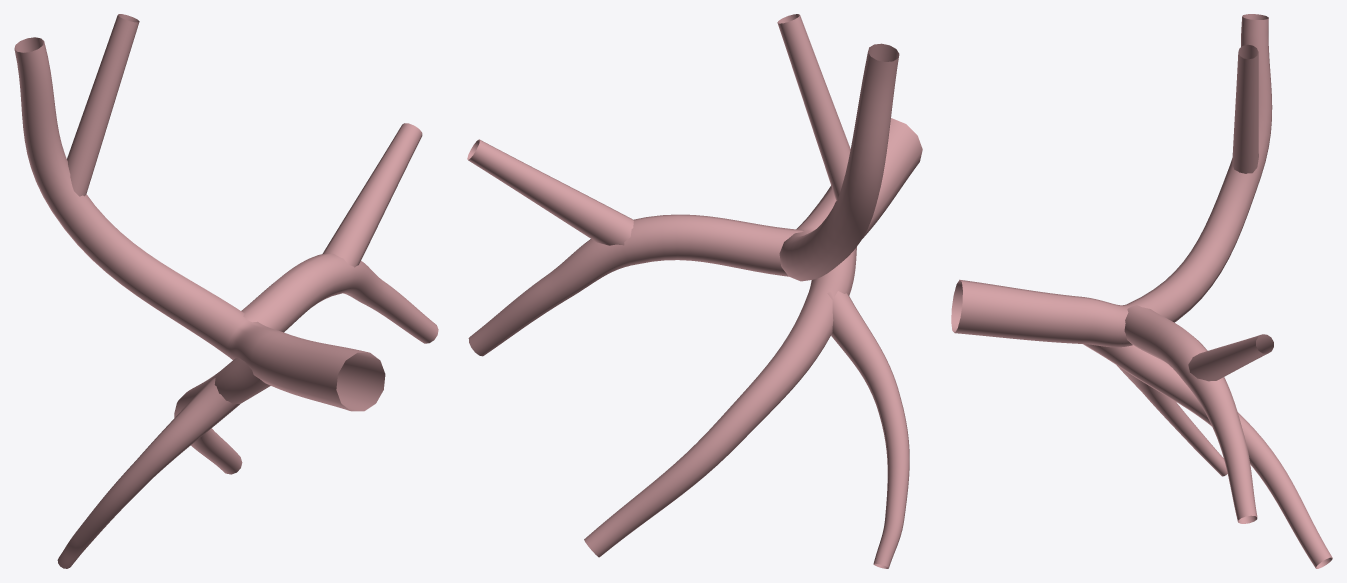
3 views of the same model, side by side, from view 1: azimuth 30°, elevation 25°; view 2: azimuth 150°, elevation 25°; view 3: azimuth 270°, elevation 25° (orthographic). The views are drawn at different scales.
Visible parts, largest first — view 1: ZA_39b8203c6a95c240; view 2: ZA_39b8203c6a95c240; view 3: ZA_39b8203c6a95c240.
Boxes of the visible parts, x1,y1,x2,y2 form: ZA_39b8203c6a95c240: (14,14,438,568); ZA_39b8203c6a95c240: (467,14,922,568); ZA_39b8203c6a95c240: (951,14,1332,568).
Size of the model in its own units: 0.0621 by 0.0751 by 0.0565.
